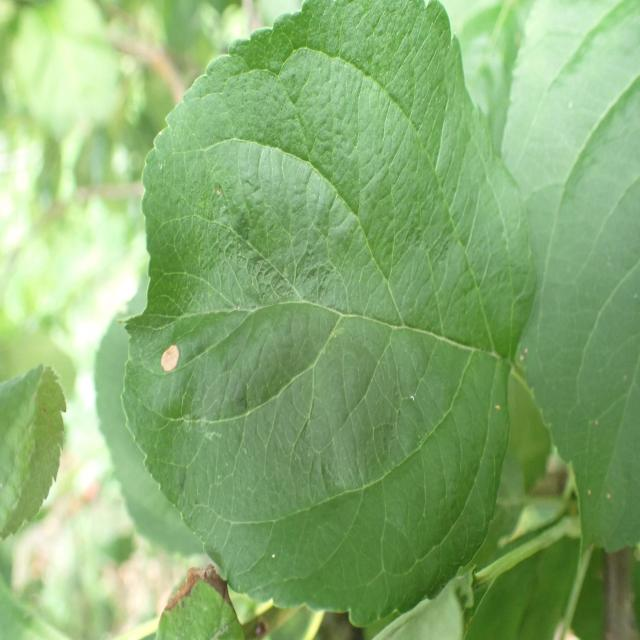frog-eye-leaf-spot: (116, 2, 537, 630)
